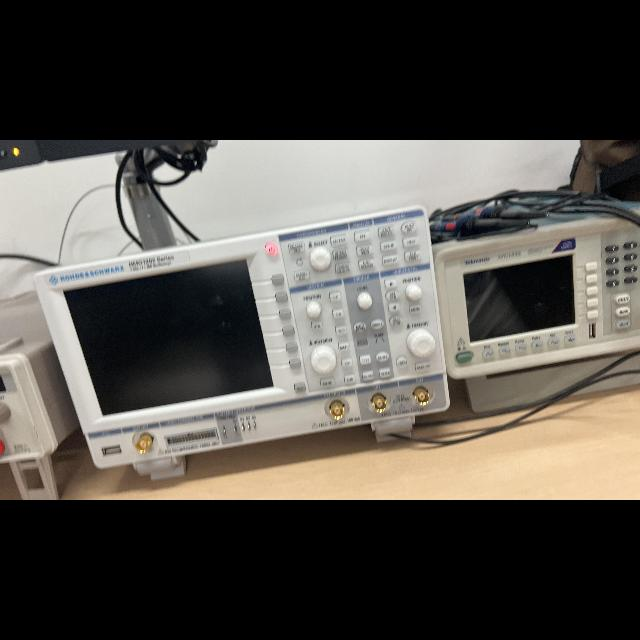Digital-Oscilloscope: (35, 206, 449, 480)
